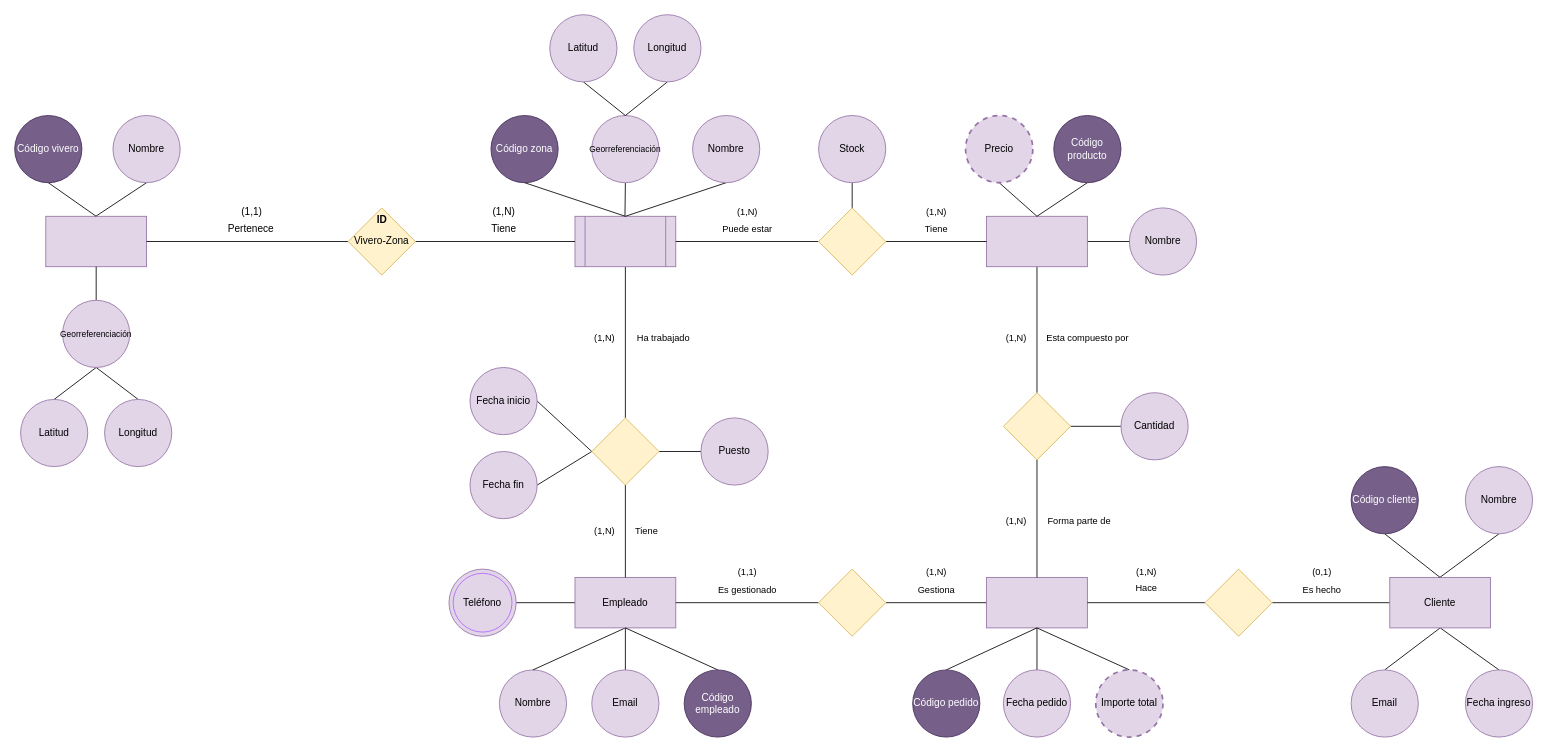
This 1547x753 diagram has some shape labels left out. The shapes that lost their labels are listed below. From the top down, each one's centre as x and y in pixels, then its label:
At point (96, 241): "Vivero".
At point (625, 241): "Zona".
At point (852, 241): "Zona-Producto".
At point (1036, 241): "Producto".
At point (1037, 426): "Producto-Pedido".
At point (625, 451): "Zona-Empleado".
At point (852, 602): "Empleado-Pedido".
At point (1036, 602): "Pedido".
At point (1238, 602): "Pedido-Cliente".
